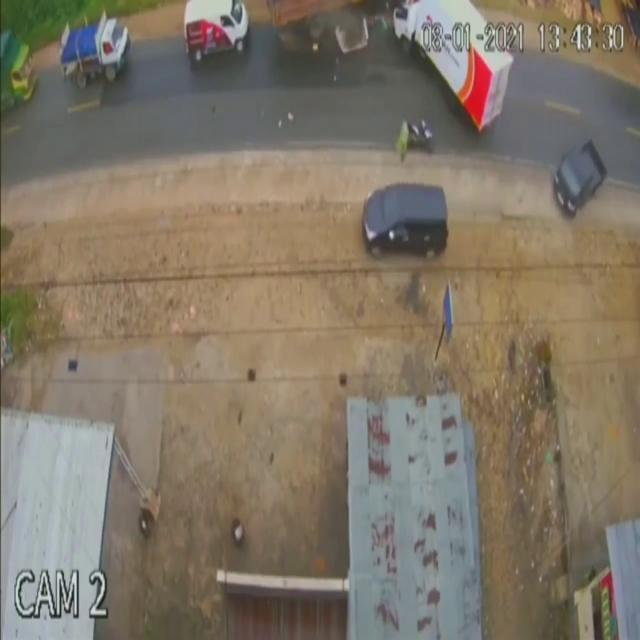accident: (265, 0, 515, 132)
